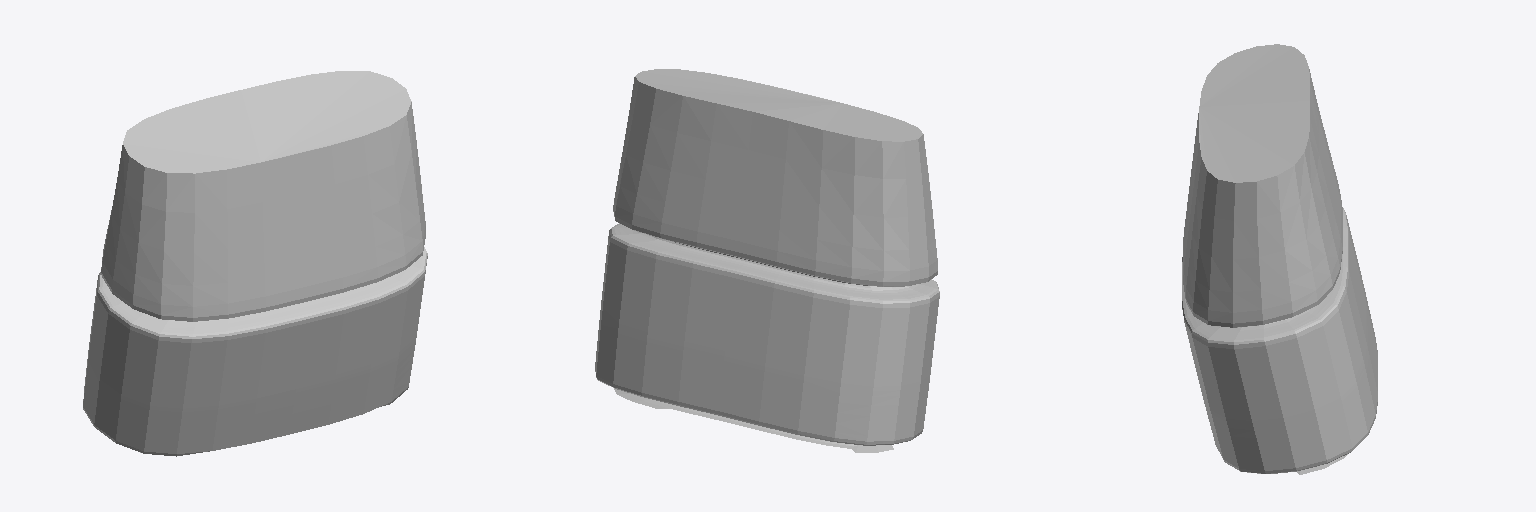
The model's file is Cuello.obj.
3 renders of one model, left to right at view 1: azimuth 30°, elevation 25°; view 2: azimuth 150°, elevation 25°; view 3: azimuth 270°, elevation 25°, orthographic.
Visible parts, largest first — view 1: Cyborg.Mesh_Cube; view 2: Cyborg.Mesh_Cube; view 3: Cyborg.Mesh_Cube.
Boxes of the visible parts, box(x1,y1,x2,y2) form: Cyborg.Mesh_Cube: box(83, 71, 427, 456); Cyborg.Mesh_Cube: box(595, 69, 939, 452); Cyborg.Mesh_Cube: box(1182, 44, 1377, 474).
Size of the model in its own units: 0.4739 by 0.4537 by 0.261.